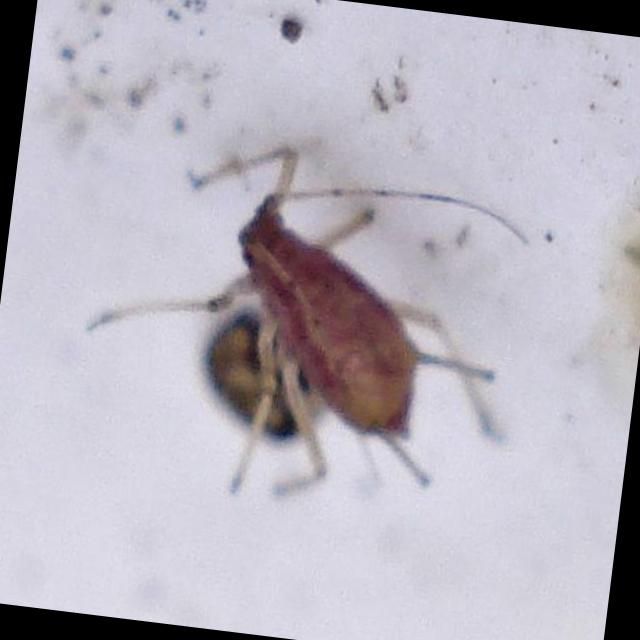Aphids: (123, 123, 532, 506)
